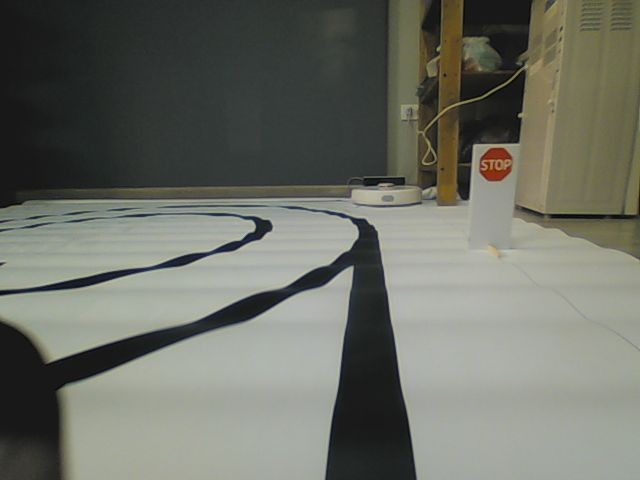Stop: (477, 147, 514, 181)
